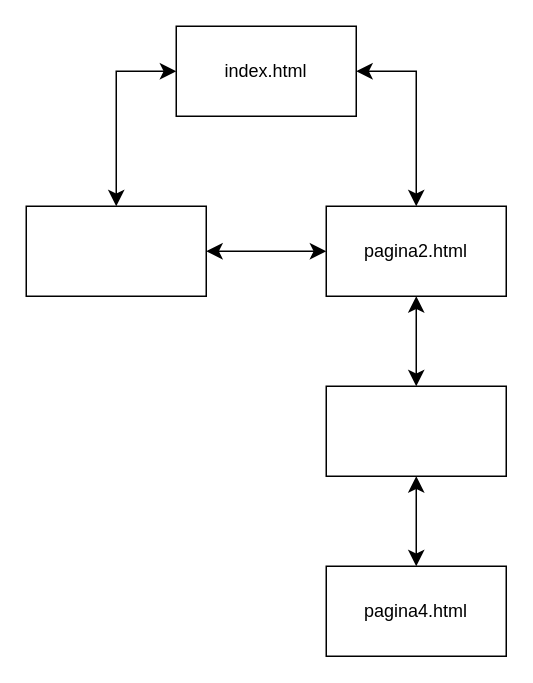
This 533x683 diagram has some shape labels left out. The centre of each missing label's shape, as x and y in pixels:
"pagina1.html" belongs at pixel 115 250.
"pagina3.html" belongs at pixel 415 430.
